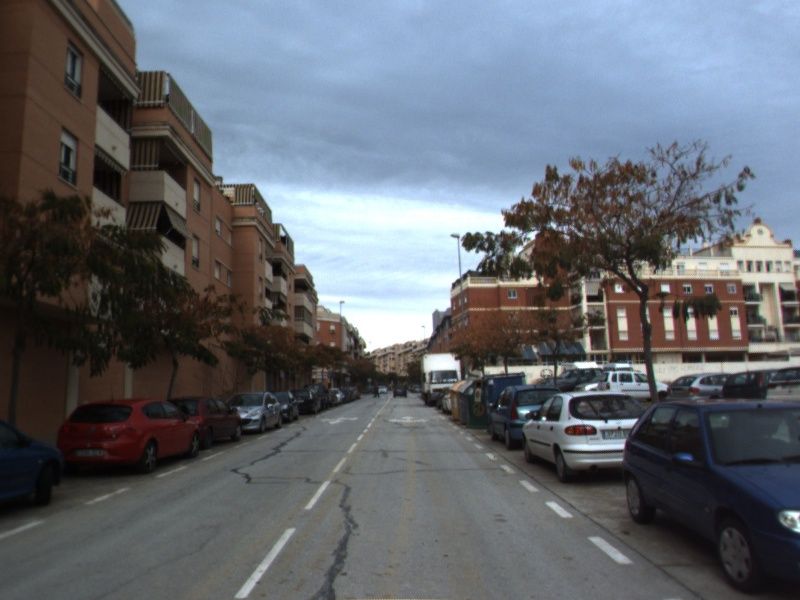STRAIGHT_LEFT_RIGHT: (386, 413, 432, 425)
